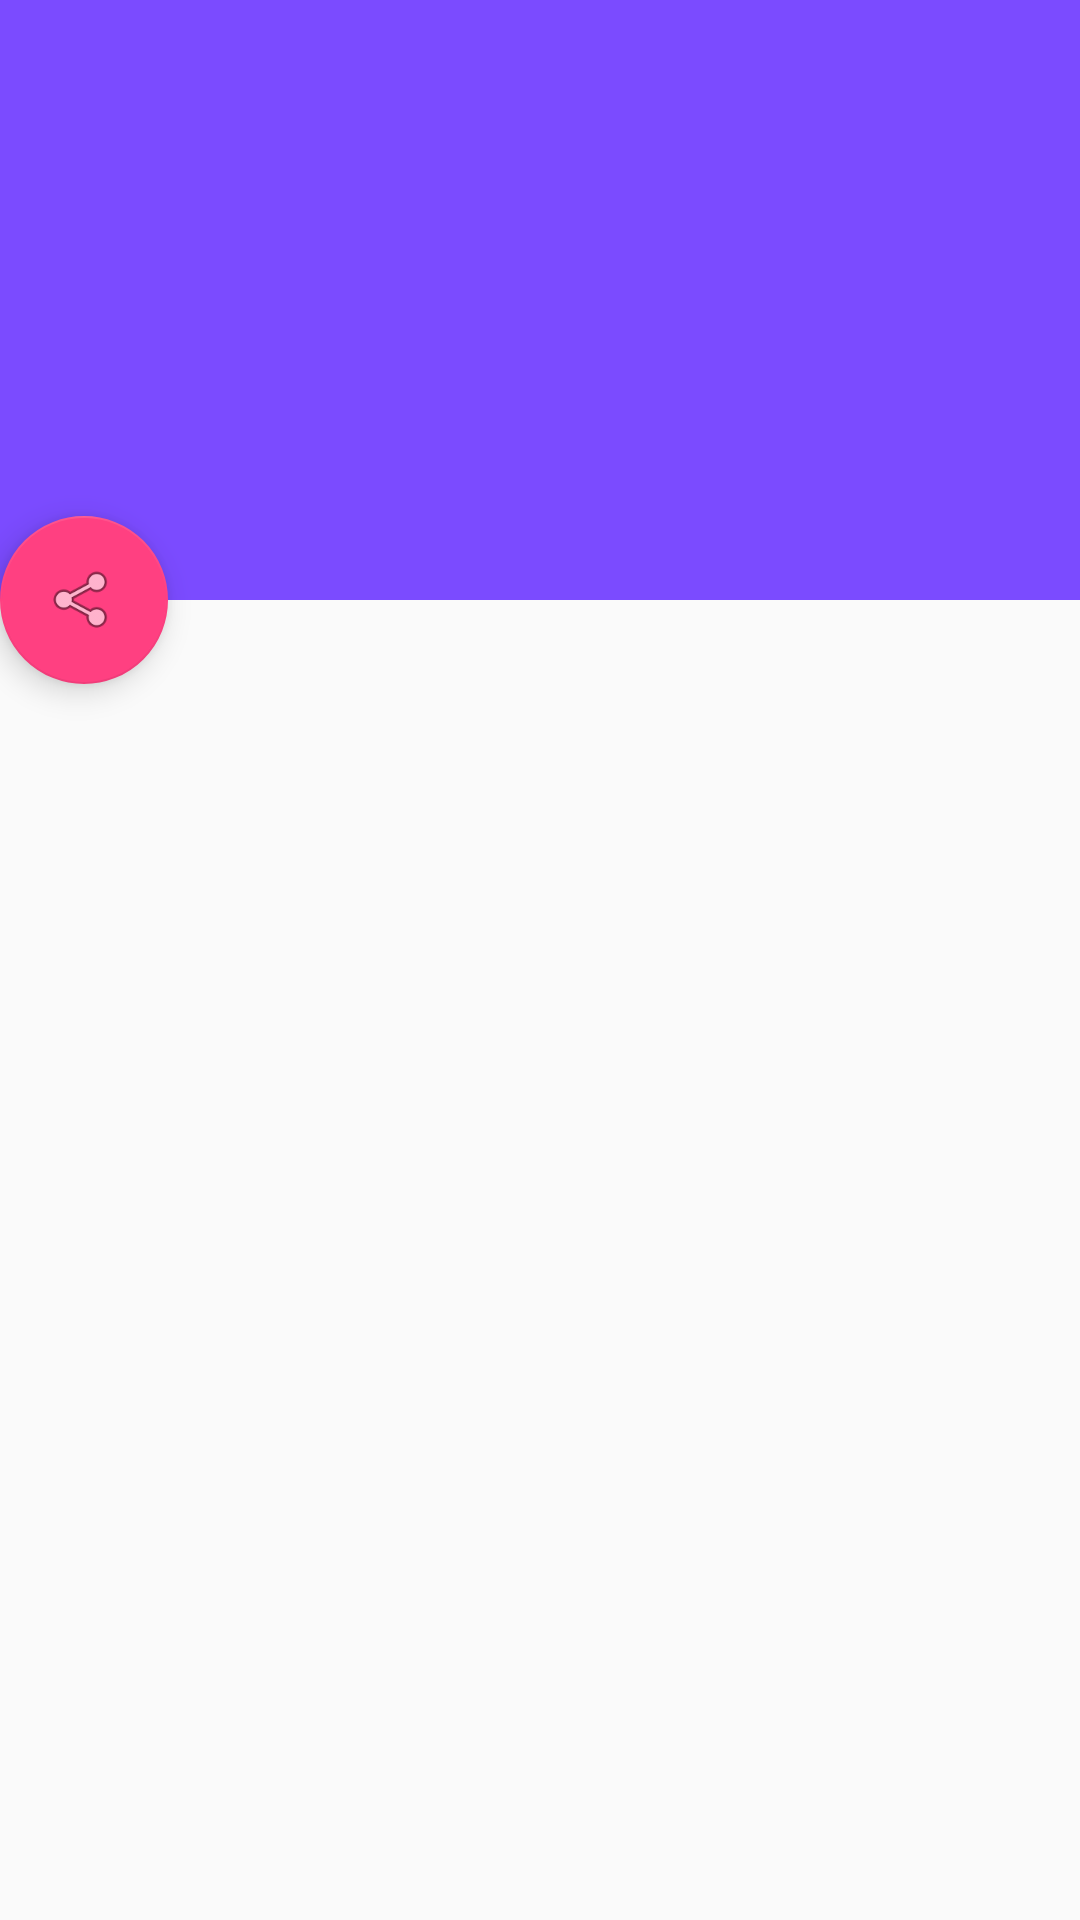

Screen size 1080w x 1920h. Icon name, then its center in pixels as point (x, y):
share: point (84, 600)
